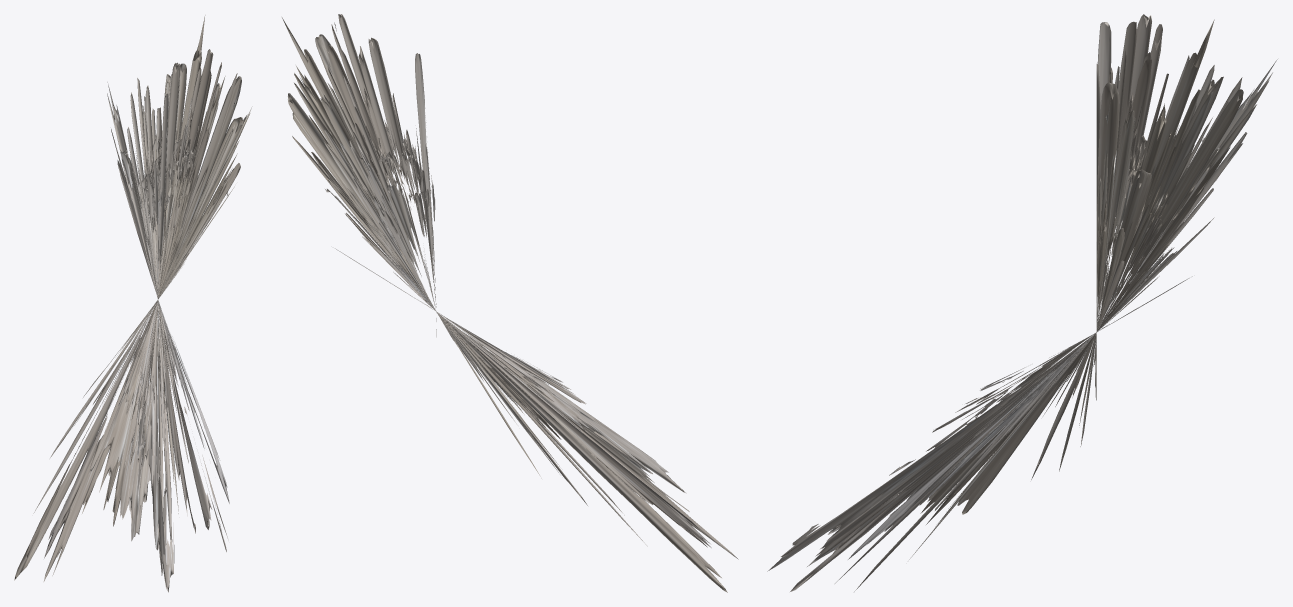
3 renders of one model, left to right at view 1: azimuth 30°, elevation 25°; view 2: azimuth 150°, elevation 25°; view 3: azimuth 270°, elevation 25°, orthographic. The views are drawn at different scales.
Bounding box in the file's own units: 7764974 × 1.14e+07 × 7460770.
Materials: 1 (1 with a texture image).
